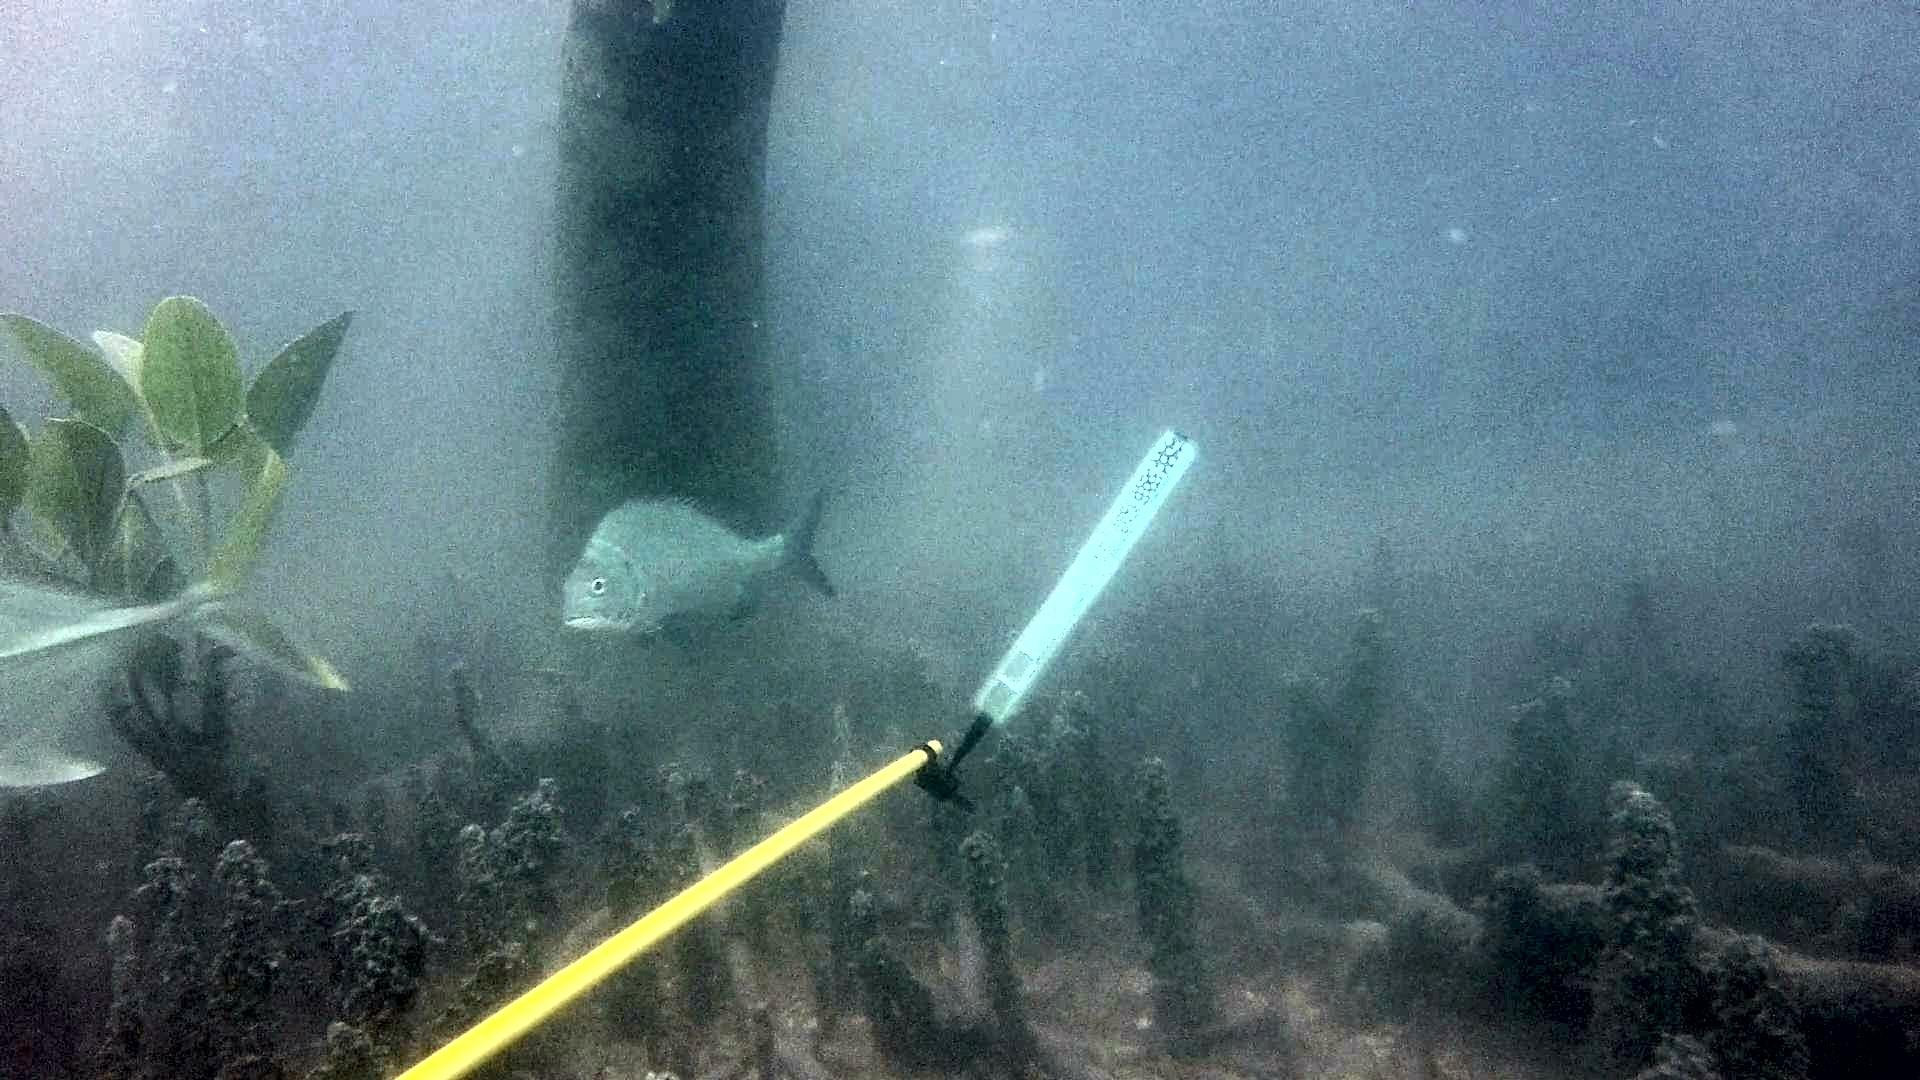acanthopagrus palmaris: (546, 455, 852, 645)
caranx: (0, 465, 361, 808)
